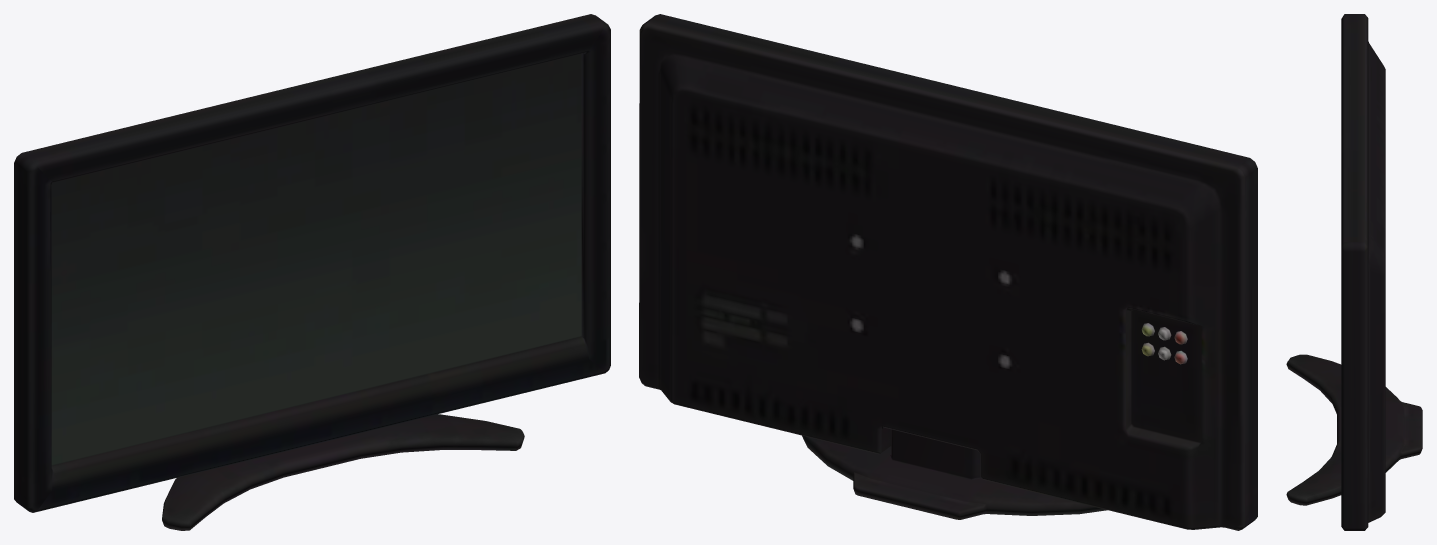
3 renders of one model, left to right at view 1: azimuth 30°, elevation 25°; view 2: azimuth 150°, elevation 25°; view 3: azimuth 270°, elevation 25°, orthographic. The views are drawn at different scales.
Bounding box in the file's own units: 16.39 × 10 × 4.03.
2 materials, 2 textured.
